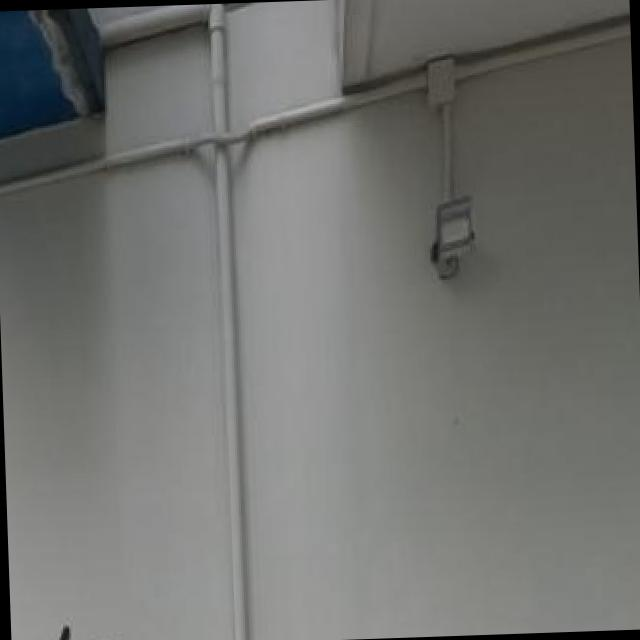Guns: (38, 613, 79, 640)
